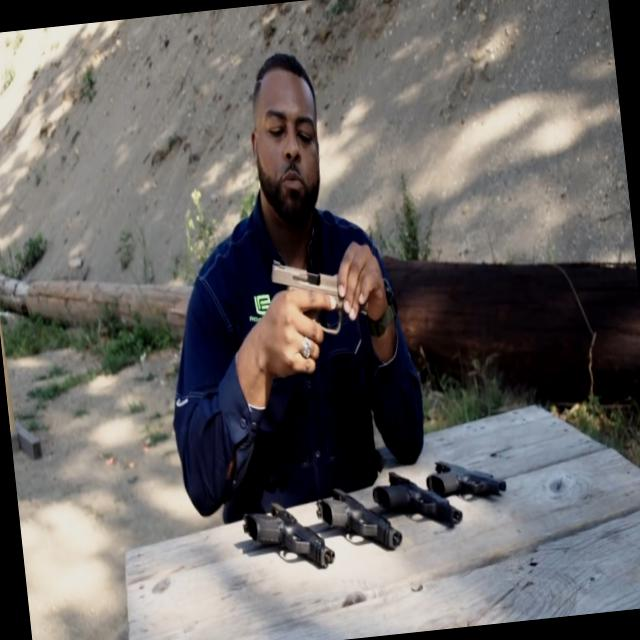handgun: (239, 489, 340, 590), (367, 452, 466, 546), (309, 476, 406, 566), (418, 442, 510, 522)
